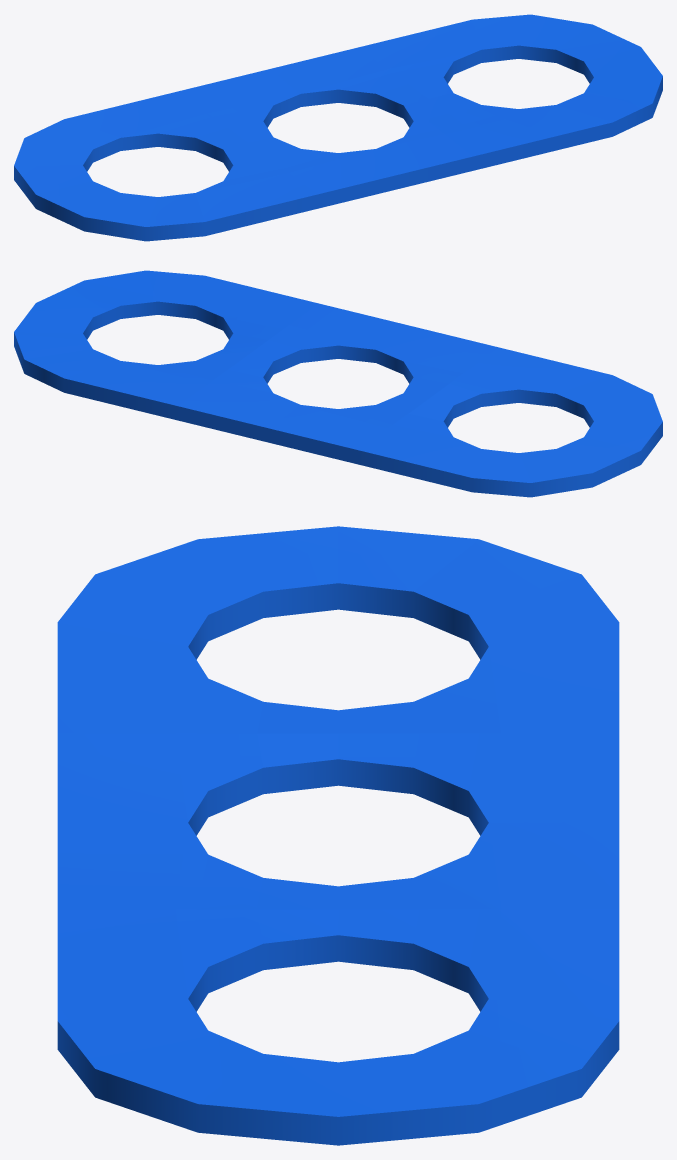
File: ThreeLongBlue.fbx
The picture shows the model from 3 angles, top to bottom: view 1: azimuth 30°, elevation 25°; view 2: azimuth 150°, elevation 25°; view 3: azimuth 270°, elevation 25°; orthographic projection. The views are drawn at different scales.
Visible parts, largest first — view 1: Blue3; view 2: Blue3; view 3: Blue3.
Boxes of the visible parts, left/top/right/bottom form: Blue3: left=14, top=14, right=662, bottom=241; Blue3: left=14, top=270, right=662, bottom=497; Blue3: left=57, top=526, right=619, bottom=1145.
Size of the model in its own units: 8.58 by 0.1942 by 3.45.
